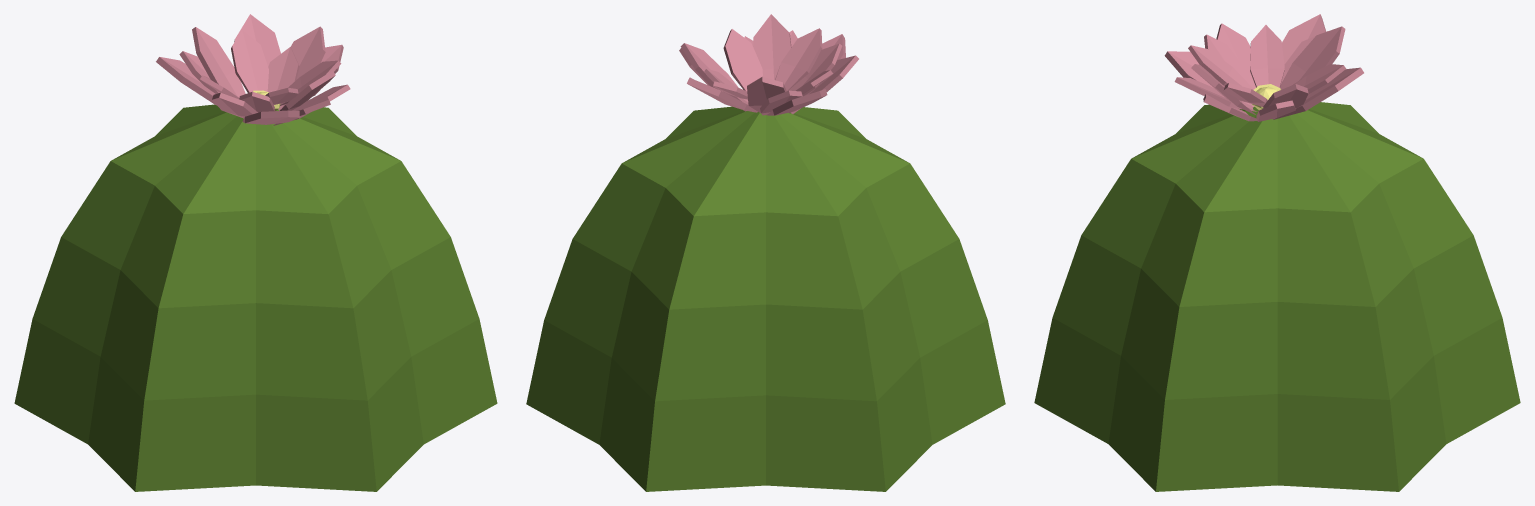
The model's file is Cactus_10.fbx.
3 renders of one model, left to right at view 1: azimuth 30°, elevation 25°; view 2: azimuth 150°, elevation 25°; view 3: azimuth 270°, elevation 25°, orthographic.
Visible parts, largest first — view 1: Cactus_10; view 2: Cactus_10; view 3: Cactus_10.
Part boxes in pixels (<box>): Cactus_10: <box>14,14,497,491</box>; Cactus_10: <box>526,14,1005,491</box>; Cactus_10: <box>1034,14,1520,491</box>.
Bounding box in the file's own units: 49.81 × 57.51 × 47.33.
